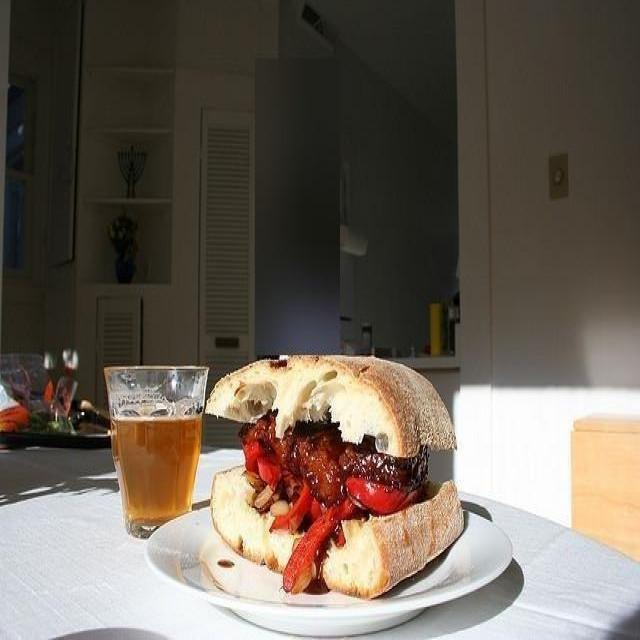glass-normal: (103, 364, 209, 538)
